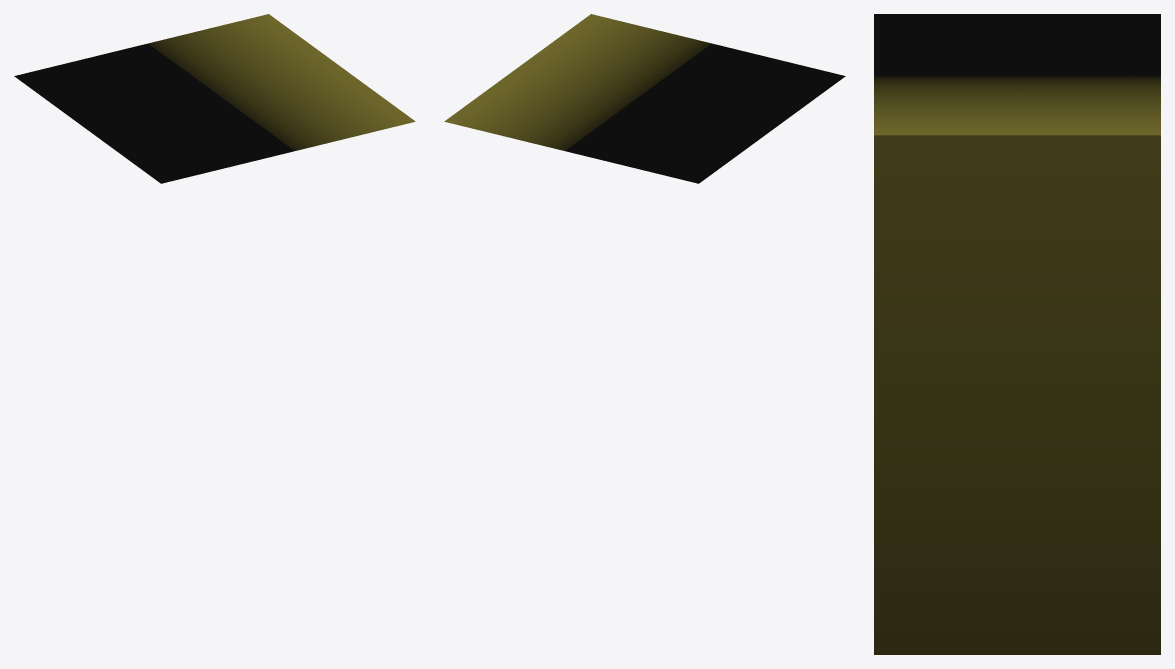
3 views of the same model, side by side, from view 1: azimuth 30°, elevation 25°; view 2: azimuth 150°, elevation 25°; view 3: azimuth 270°, elevation 25° (orthographic). The views are drawn at different scales.
Bounding box in the file's own units: 1 × 2 × 1.
1 material, 1 textured.
